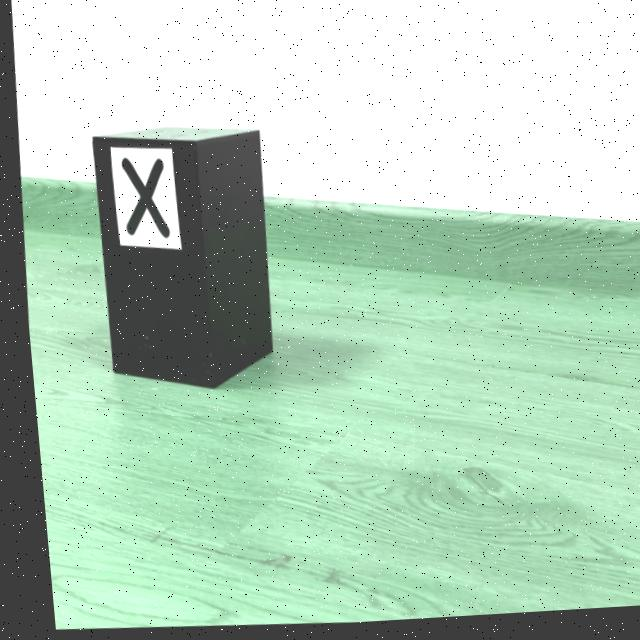X: (118, 159, 165, 239)
